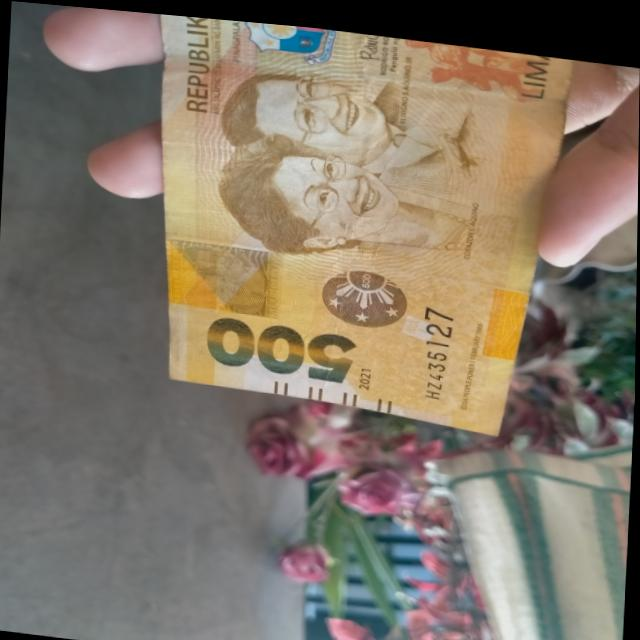concealed_value: (164, 232, 285, 314)
optically_variable_device: (311, 251, 422, 332)
value: (202, 309, 363, 381)
